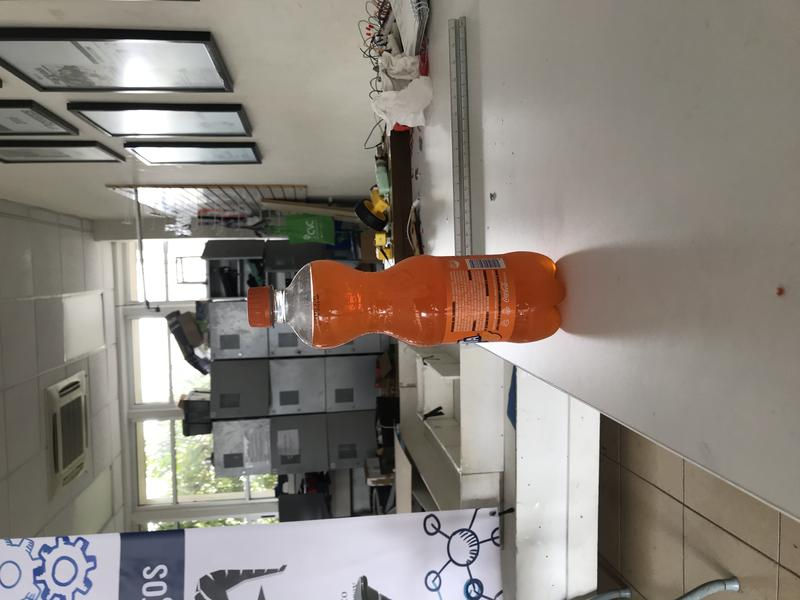fanta: (249, 250, 567, 351)
